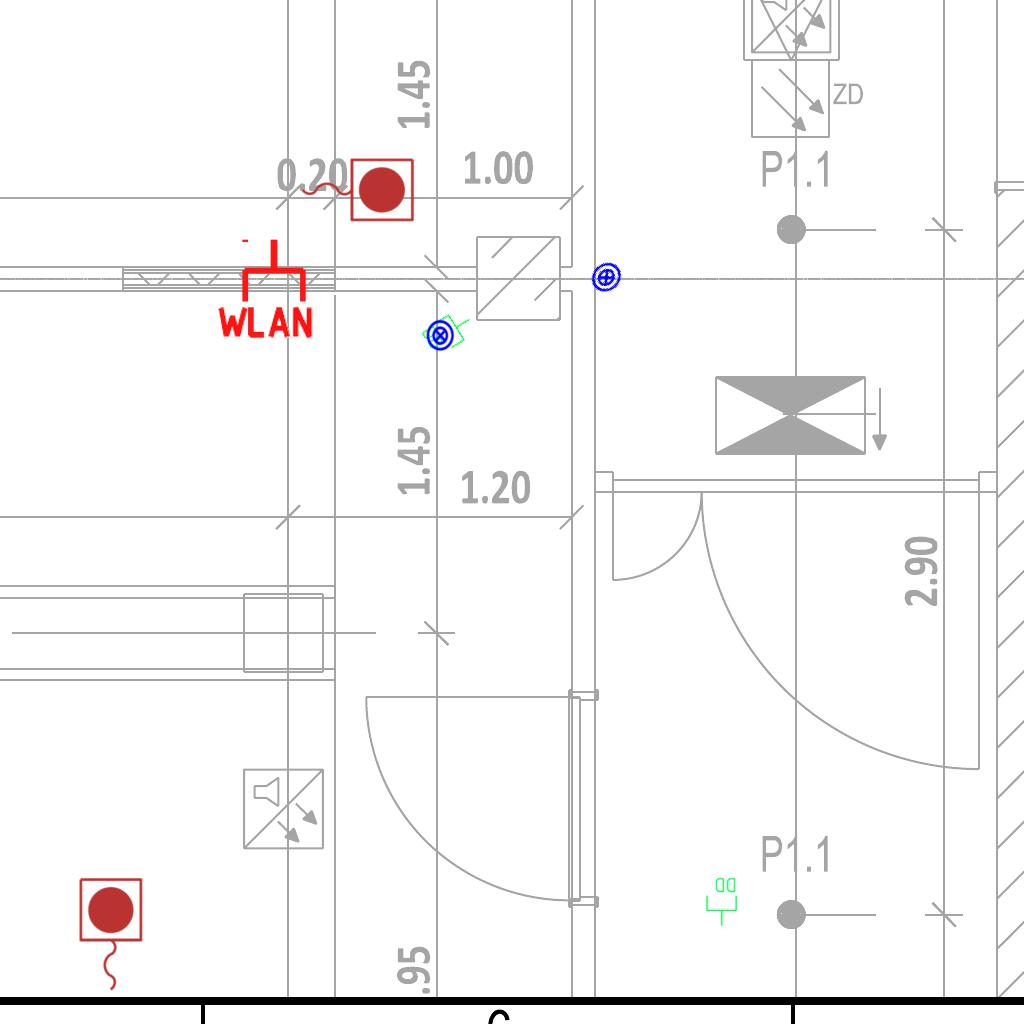Datenanschluss_zweifach: (417, 304, 480, 360), (705, 876, 739, 927)
Taster_beleuchtet: (583, 254, 630, 301), (424, 319, 457, 352)
WLAN: (213, 235, 317, 340)
Zugtaster: (296, 153, 418, 225), (74, 874, 146, 996)
